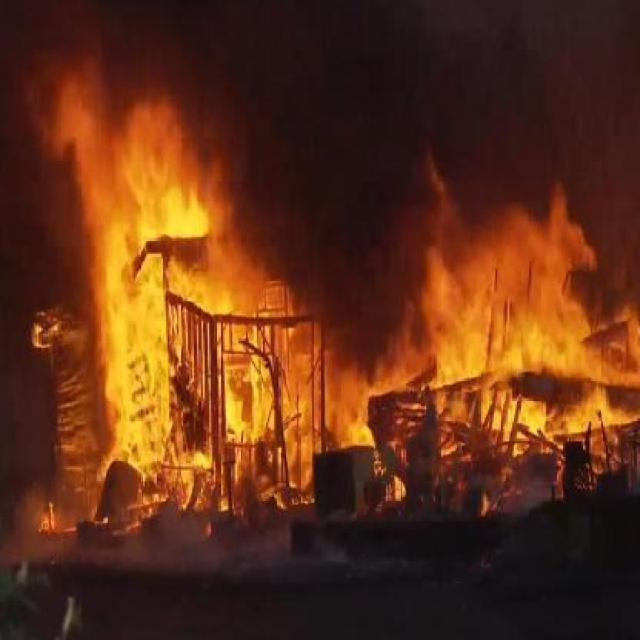Fire: (99, 127, 227, 524), (430, 193, 598, 374), (236, 239, 324, 439), (50, 77, 101, 226), (520, 388, 638, 436), (124, 87, 190, 130), (285, 442, 313, 496)
